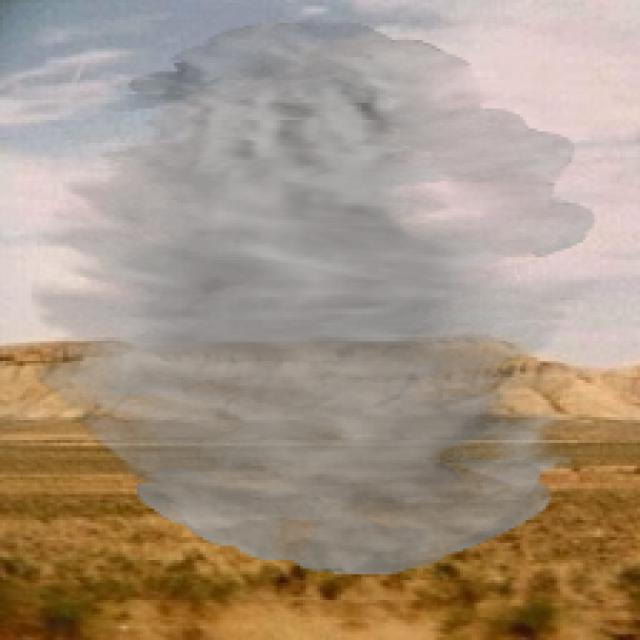smoke: (32, 20, 597, 574)
